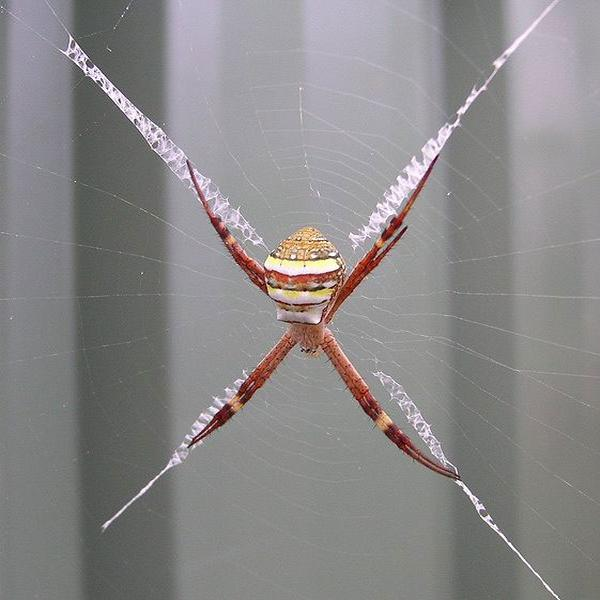St Andrew's Cross Spider: (179, 159, 454, 484)
